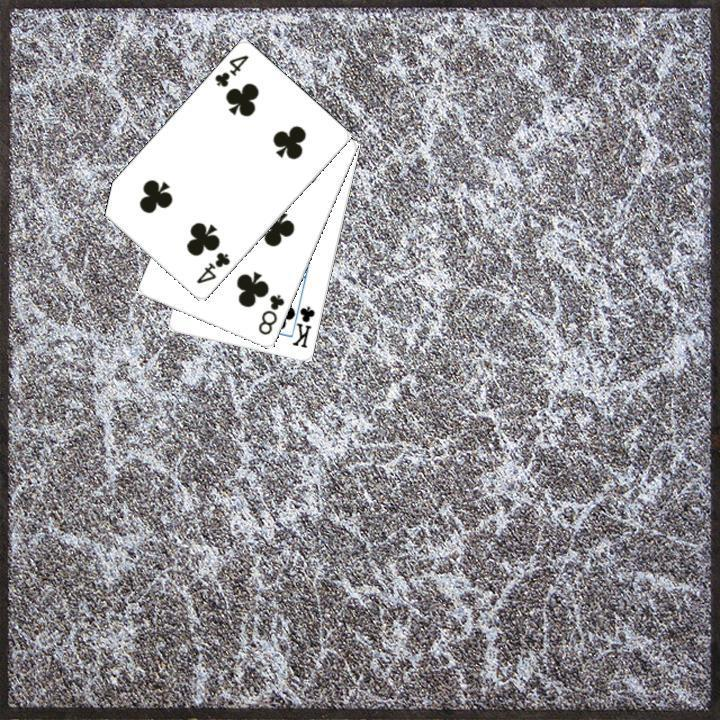4: (210, 51, 251, 90), (192, 248, 232, 286)
8: (254, 290, 286, 337)
K: (286, 296, 317, 350)
